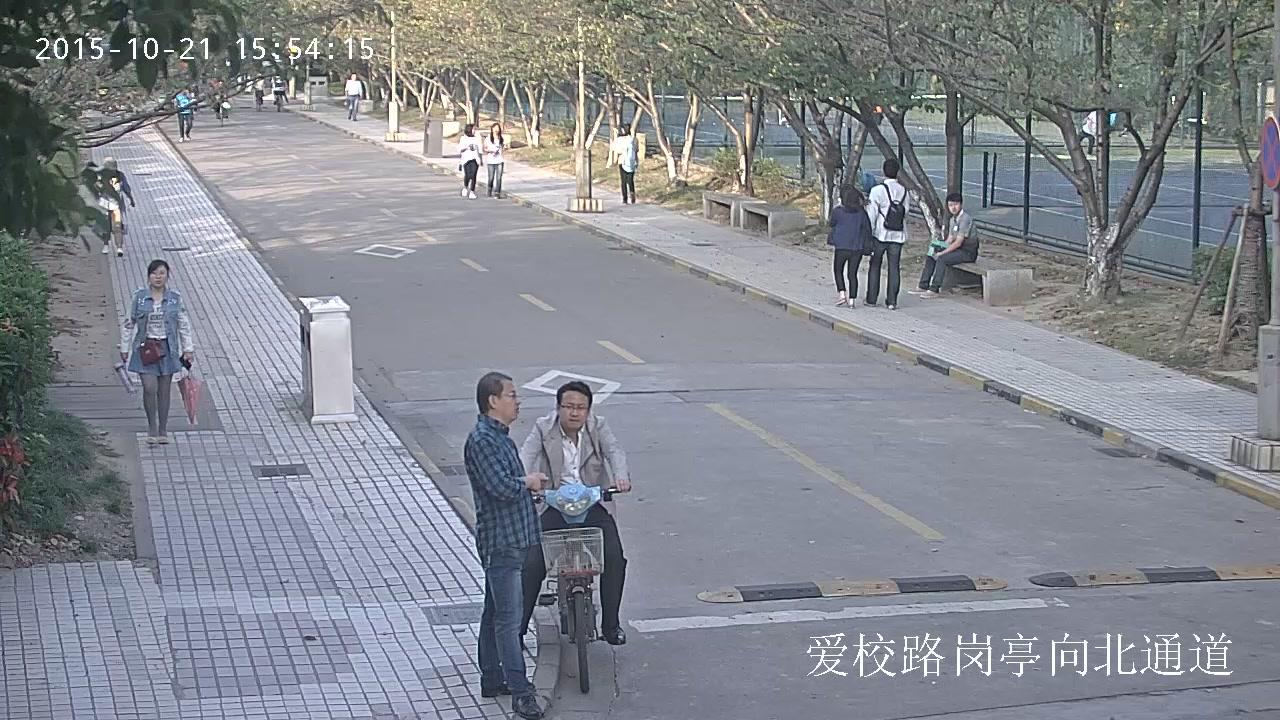face: (560, 392, 587, 428), (497, 380, 520, 422), (148, 264, 168, 287), (948, 201, 960, 214), (835, 188, 842, 205), (492, 124, 500, 134), (469, 125, 477, 135), (350, 73, 356, 81), (182, 88, 189, 94), (620, 125, 625, 133), (218, 80, 222, 84)
